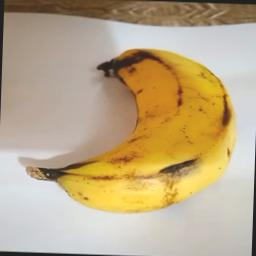Banana Unripe: (14, 38, 240, 218)
